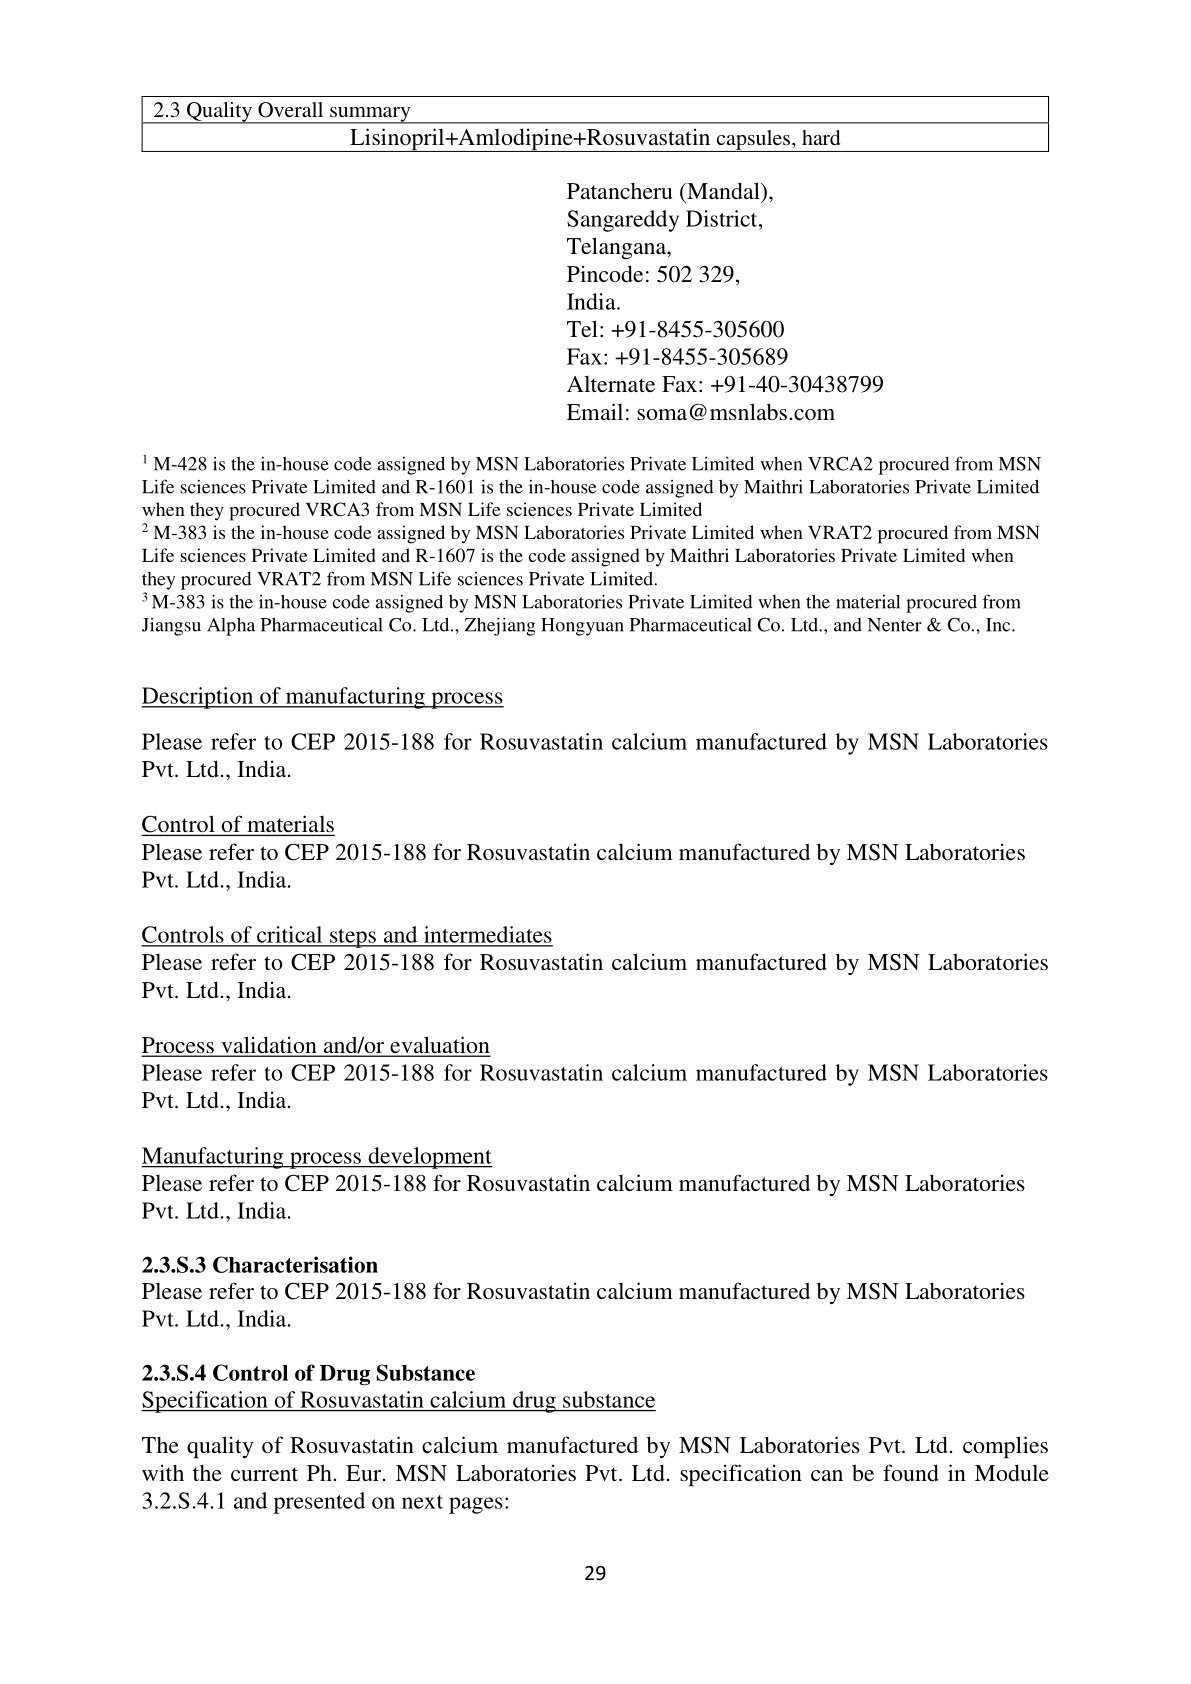full_lined: (140, 94, 1051, 152)
